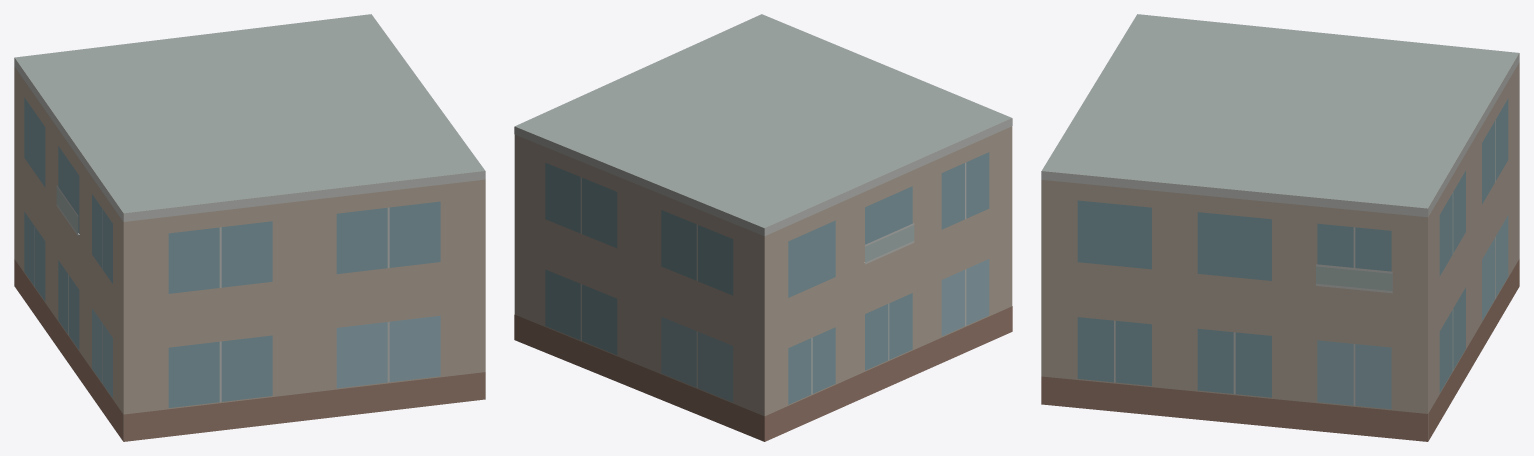
File: survey-upis-32661361.glb
The picture shows the model from 3 angles, left to right: view 1: azimuth 30°, elevation 25°; view 2: azimuth 150°, elevation 25°; view 3: azimuth 270°, elevation 25°; orthographic projection. The views are drawn at different scales.
Parts seen in each view (by area): view 1: survey-upis-32661361.tmp; view 2: survey-upis-32661361.tmp; view 3: survey-upis-32661361.tmp.
Boxes of the visible parts, left/top/right/bottom form: survey-upis-32661361.tmp: left=14, top=14, right=485, bottom=441; survey-upis-32661361.tmp: left=514, top=14, right=1012, bottom=441; survey-upis-32661361.tmp: left=1041, top=14, right=1519, bottom=441.
Size of the model in its own units: 11.63 by 6.5 by 12.08.
